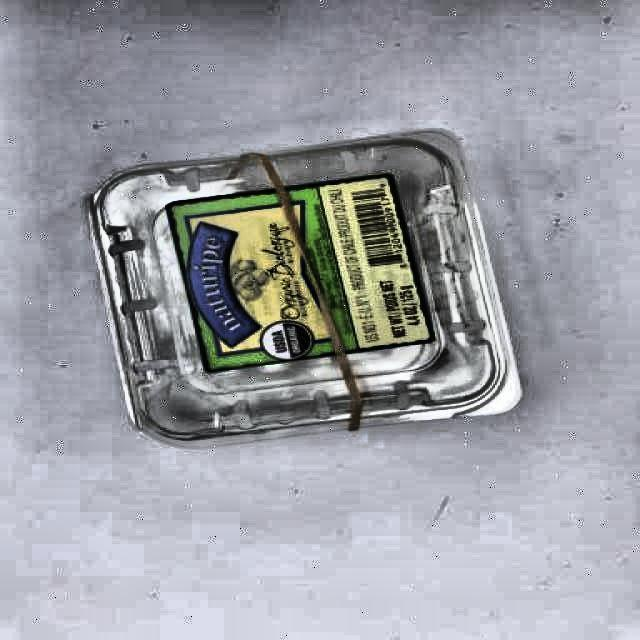plastic: (89, 131, 520, 447)
